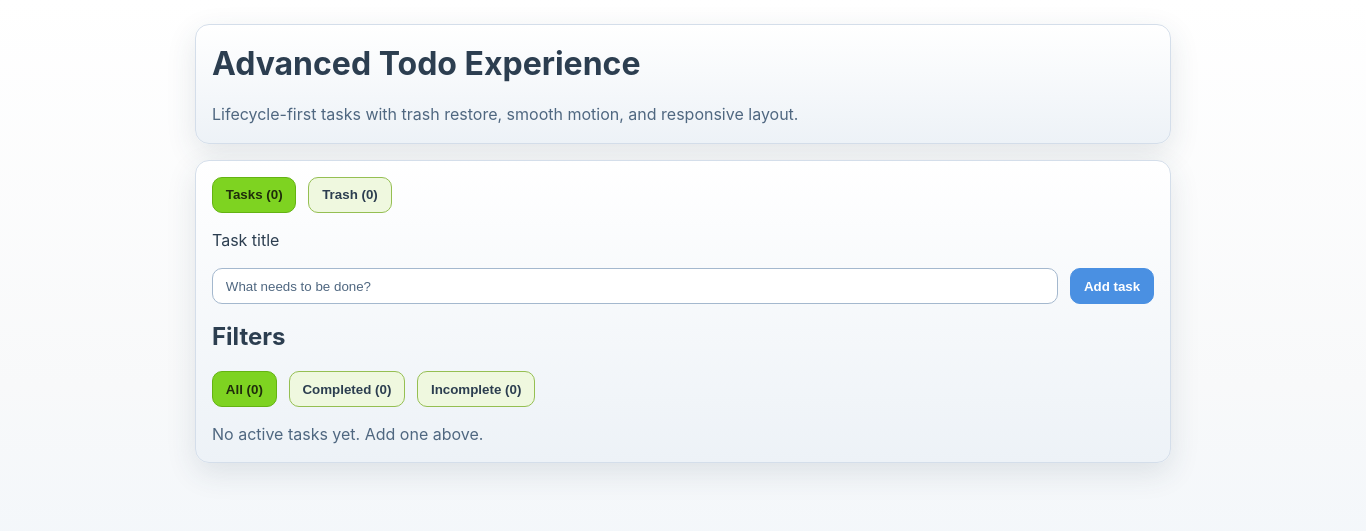
Test: reduced motion integration › preserves task interactions while reduced motion is enabled
Step 1. Type "Reduced mode task" into the field with placeholder "What needs to be done?" → (635,286), box [212,268,1058,304]
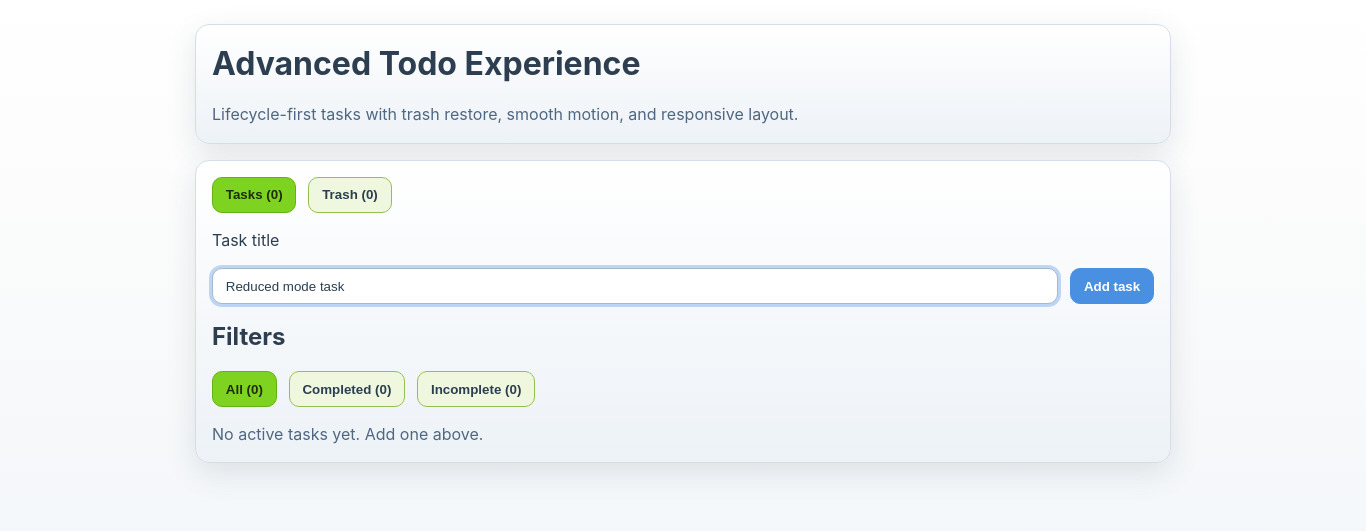
Step 2. Click the button "Add task" → (1112,286), box [1070,268,1154,304]
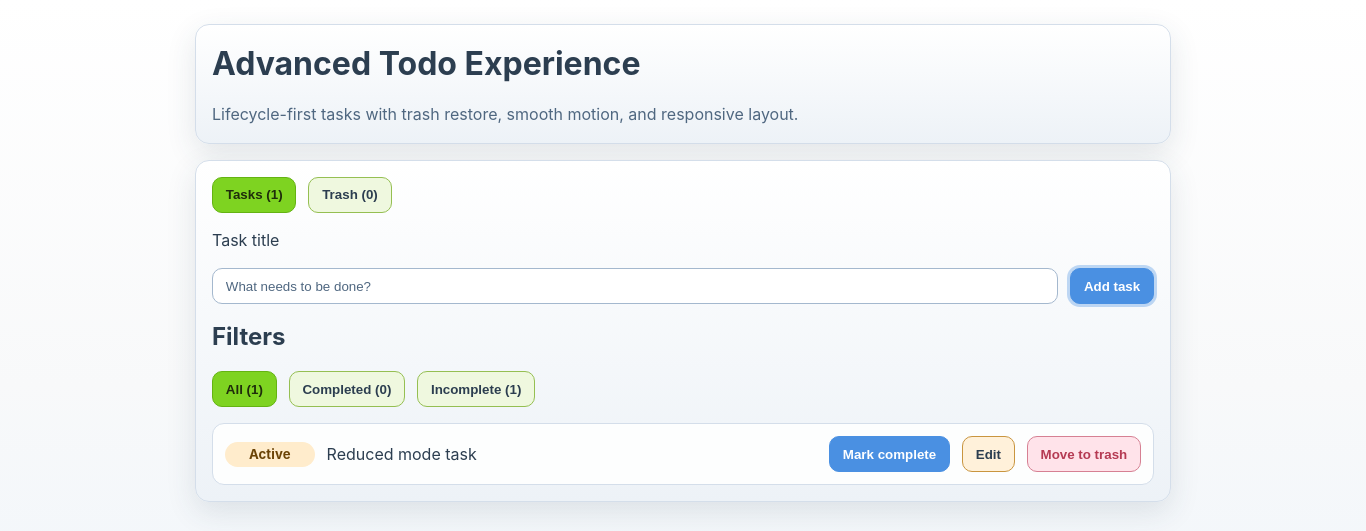
Now the text "Reduced mode task" is shown, box [327,444,477,464]
